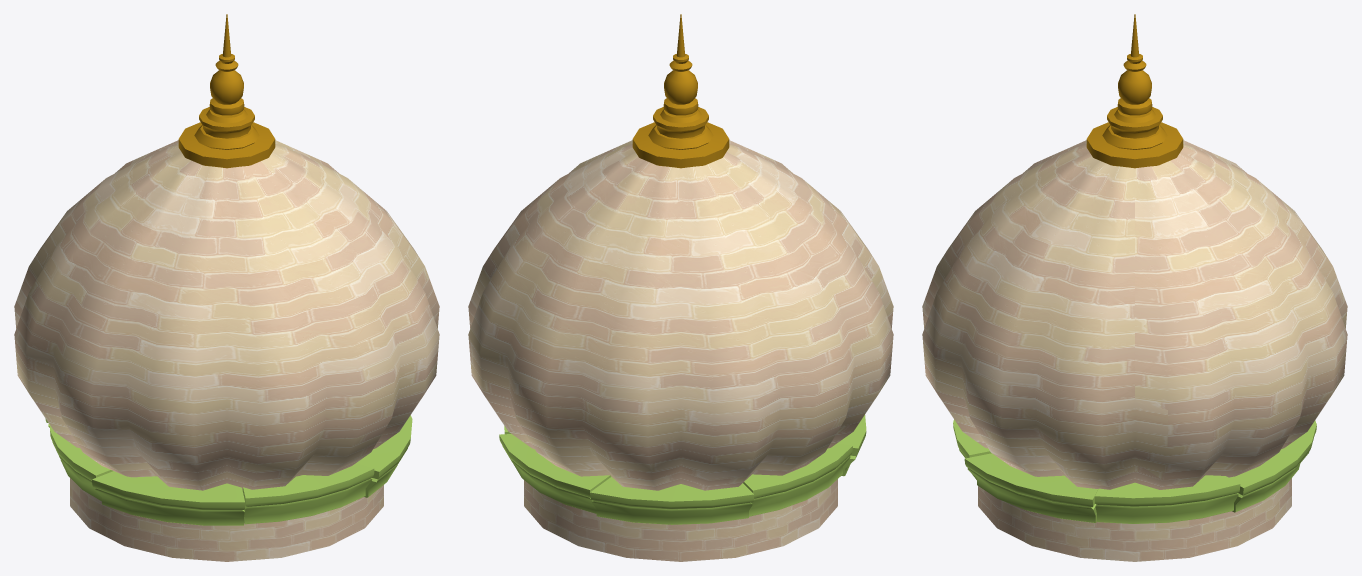
Rendered from SM_dome_03.fbx.
3 renders of one model, left to right at view 1: azimuth 30°, elevation 25°; view 2: azimuth 150°, elevation 25°; view 3: azimuth 270°, elevation 25°, orthographic.
Parts seen in each view (by area): view 1: Cylinder424439; view 2: Cylinder424439; view 3: Cylinder424439.
Part boxes in pixels (x1,y1,x2,y2): Cylinder424439: (14, 14, 439, 561); Cylinder424439: (468, 14, 893, 561); Cylinder424439: (922, 14, 1347, 561).
Size of the model in its own units: 222 by 276 by 222.
